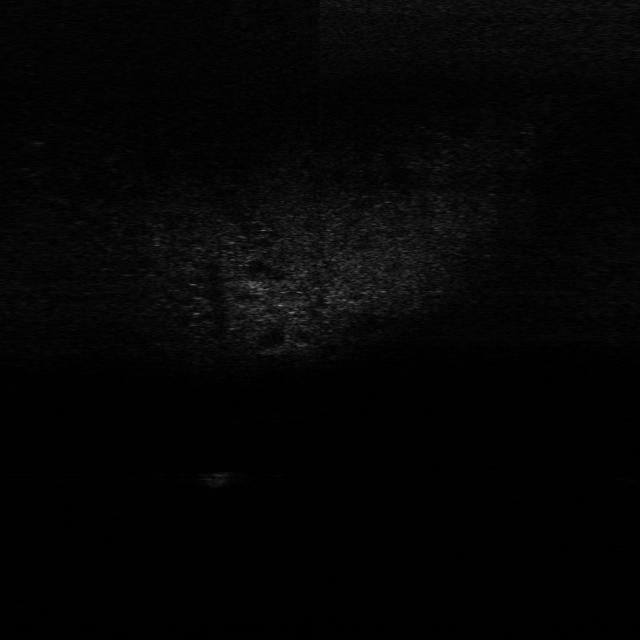cylinder: (202, 467, 233, 489)
